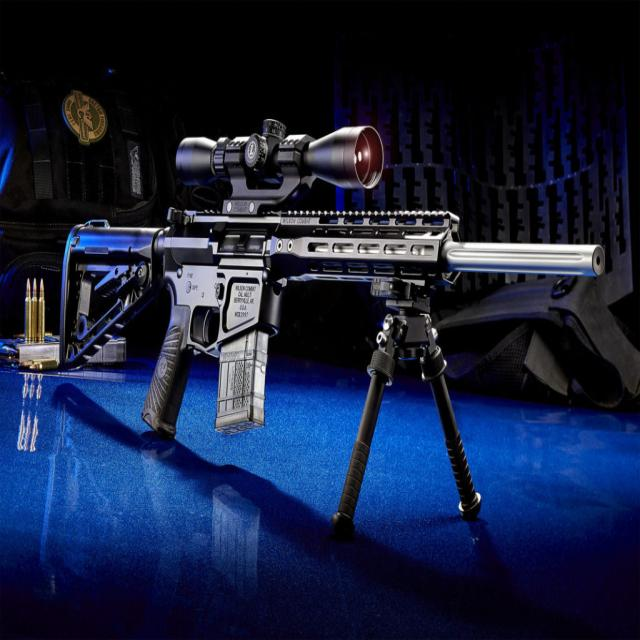Rifle: (60, 119, 609, 437)
